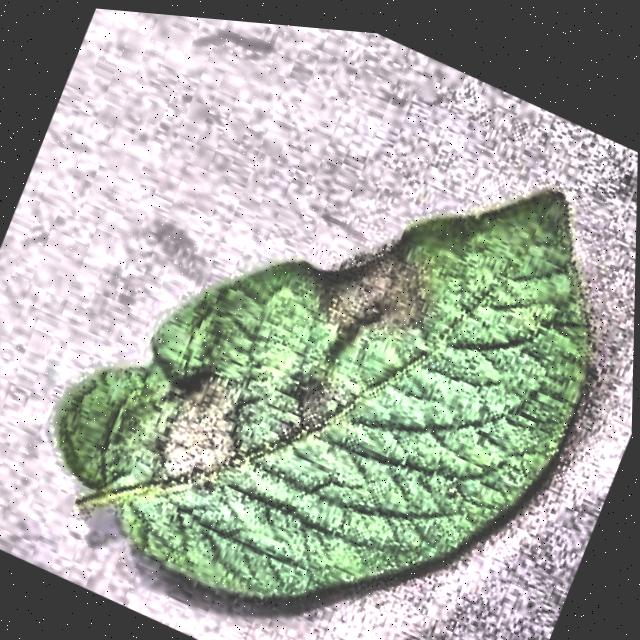Potato_leaf_late_blight: (53, 154, 633, 630)
